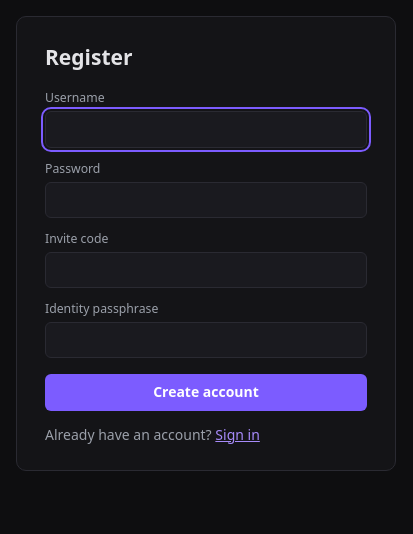
Test: test_web_register_form_requires_invite_code › renders validation copy on 422 without leaking the raw err.message
Type "bob" into the field labelled "Username" at [206, 130], box [45, 111, 367, 148]
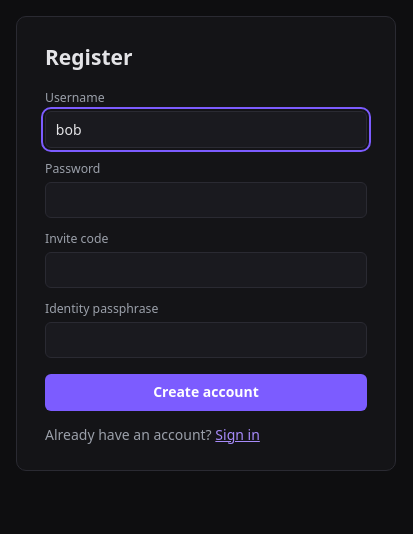
Type "passw0rd-placeholder" into the password field labelled "Password" at [206, 200], box [45, 182, 367, 218]
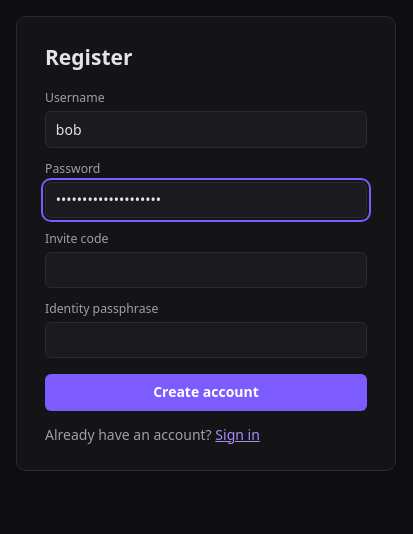
Type "test-invite-code-placeholder" into the field labelled "Invite code" at [206, 270], box [45, 252, 367, 288]
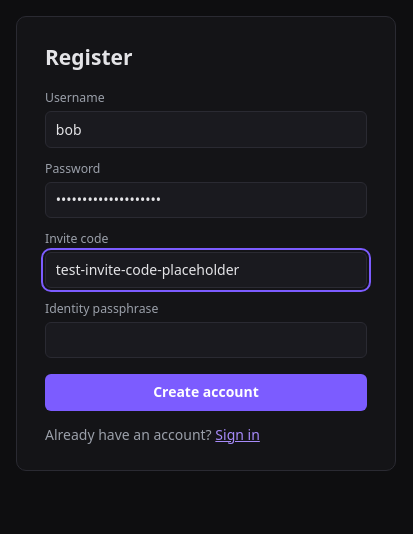
Click the button "Create account" at [206, 392], box [45, 374, 367, 411]
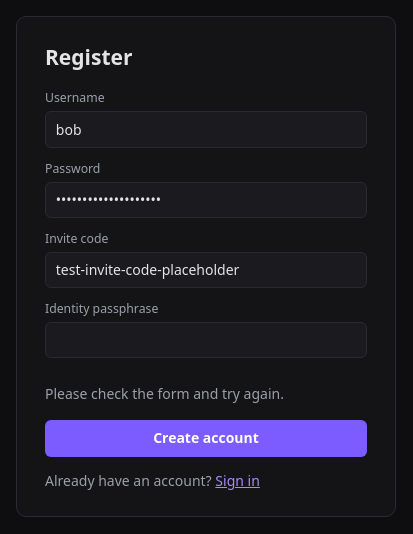
Expected: the message does not show "internal-validation-trace-55", [45, 384, 284, 403]
Result: the message shows "Please check the form and try again" at [45, 384, 284, 403]
